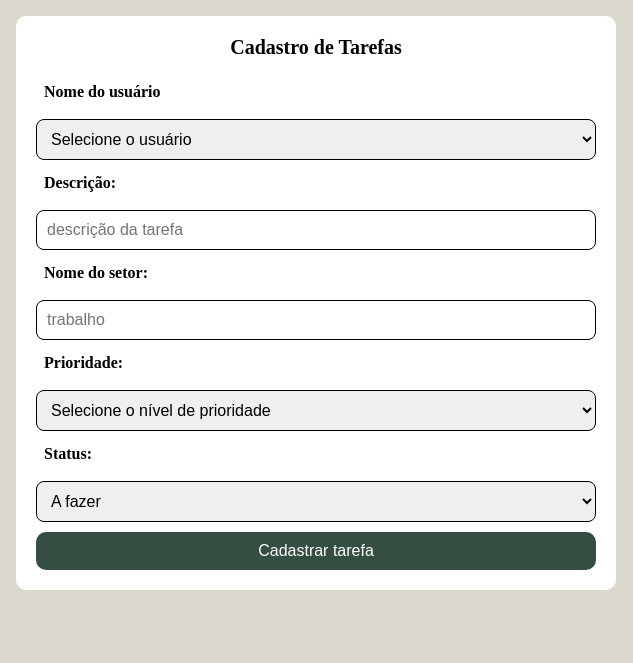
Scenario: Cadastro de Tarefa › deve mostrar um erro se a prioridade não for selecionada
Type "Tarefa válida" into the field labelled "Descrição:" at (316, 230), box [36,210,596,250]
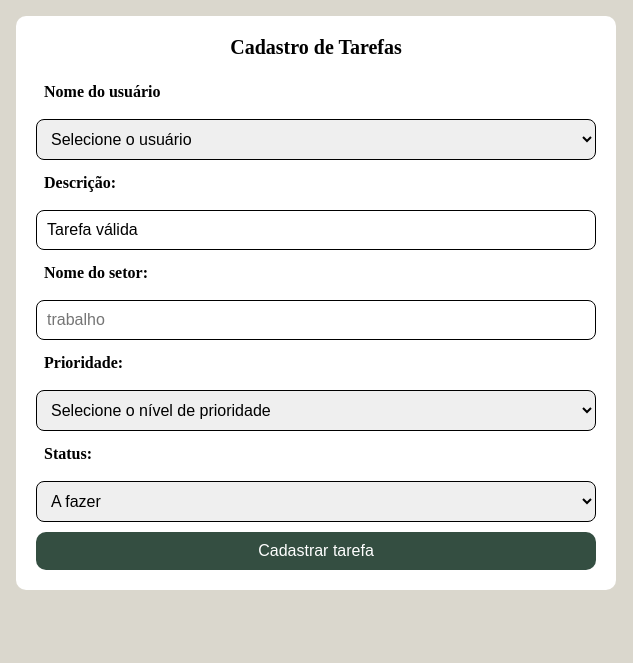
Type "TI" into the field labelled "Nome do setor:" at (316, 320), box [36,300,596,340]
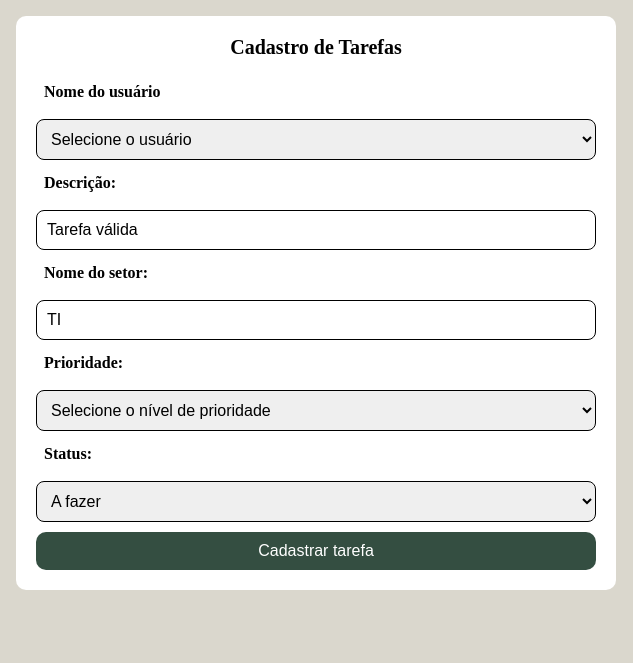
Select "Selecione o nível de prioridade" in the dropdown labelled "Prioridade:" at (316, 410), box [36,390,596,431]
Select "A fazer" in the dropdown labelled "Status:" at (316, 502), box [36,481,596,522]
Click the button "Cadastrar tarefa" at (316, 551), box [36,532,596,570]
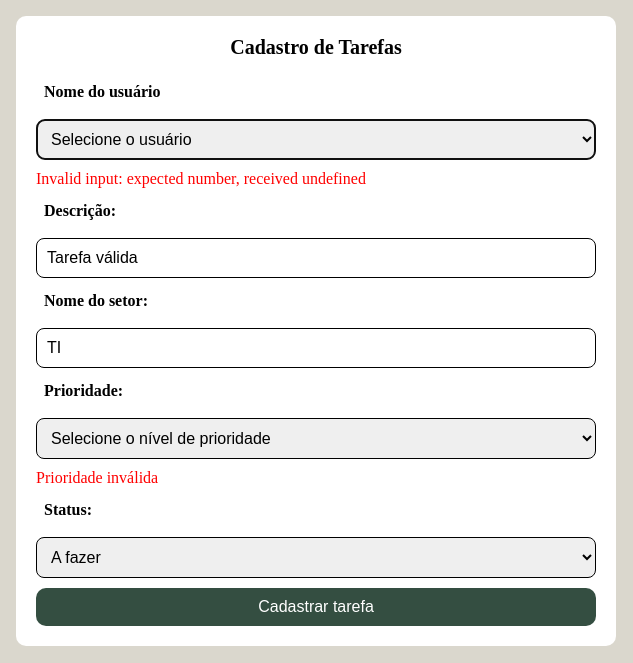
Now the text "Prioridade inválida" is shown, box [36,469,158,486]
